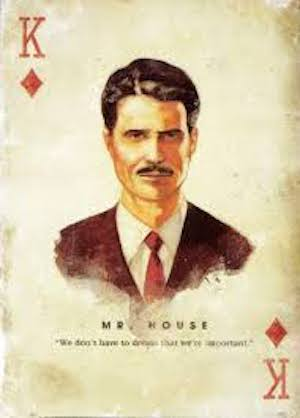KingOfDiamonds: (4, 5, 300, 417)
